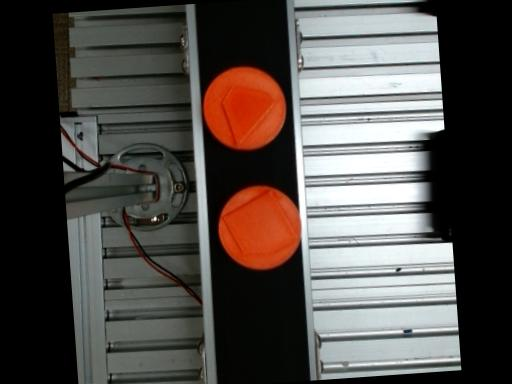Not_Square: (221, 190, 298, 257), (221, 85, 274, 146)
Orange_Waper: (202, 67, 285, 151), (217, 186, 299, 270)
